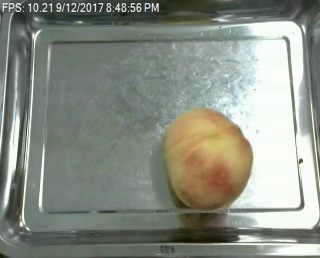Peach: (164, 107, 253, 211)
